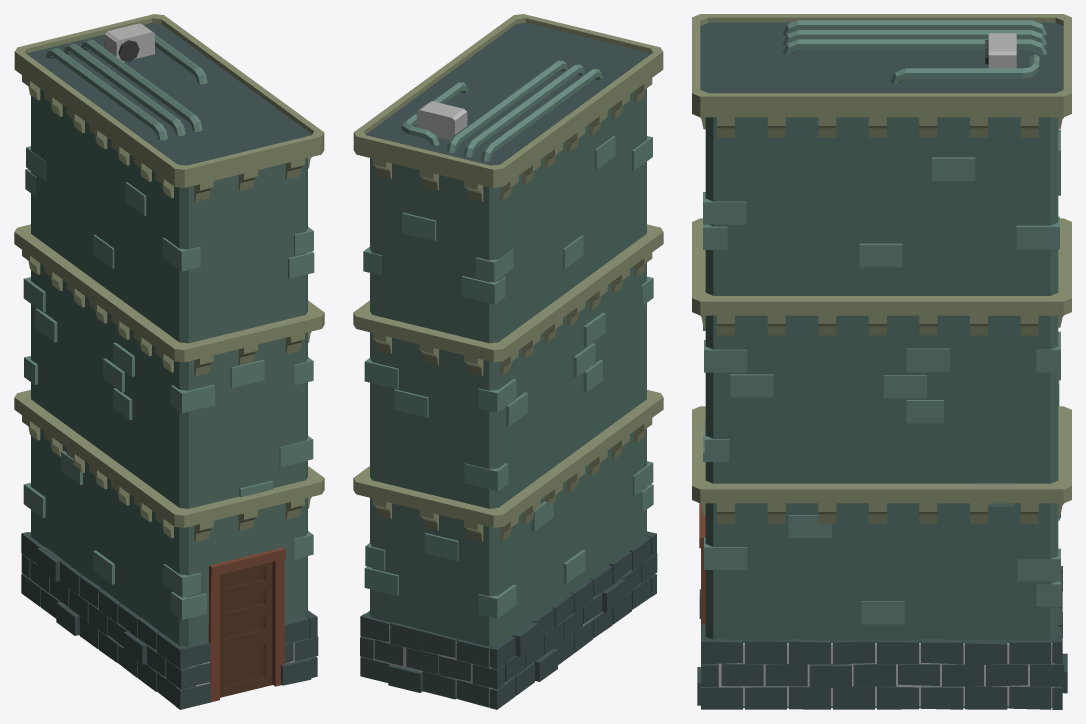
The model's file is 3Story_Slim_Mat.glb.
3 renders of one model, left to right at view 1: azimuth 30°, elevation 25°; view 2: azimuth 150°, elevation 25°; view 3: azimuth 270°, elevation 25°, orthographic. The views are drawn at different scales.
Visible parts, largest first — view 1: 3Story_Slim_Mat; view 2: 3Story_Slim_Mat; view 3: 3Story_Slim_Mat.
Boxes of the visible parts, x1=… form: 3Story_Slim_Mat: x1=14, y1=14, x2=324, y2=709; 3Story_Slim_Mat: x1=353, y1=14, x2=663, y2=709; 3Story_Slim_Mat: x1=692, y1=14, x2=1071, y2=709.
Bounding box in the file's own units: 1.12 × 3.99 × 2.15.
